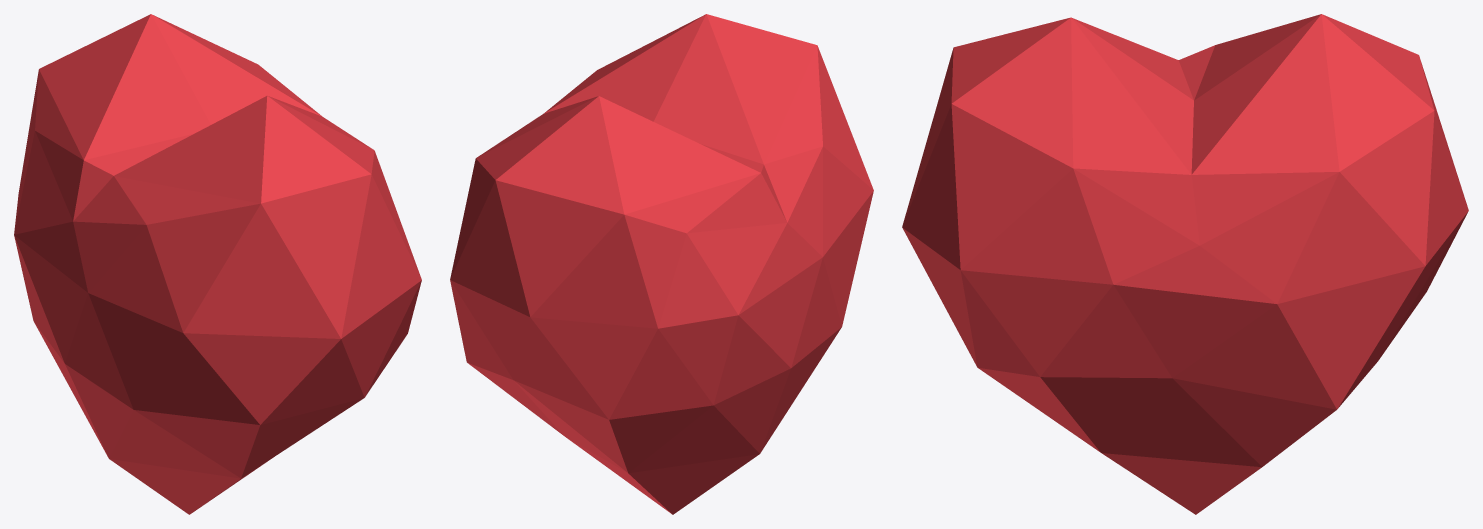
File: Heart.fbx
The picture shows the model from 3 angles, left to right: view 1: azimuth 30°, elevation 25°; view 2: azimuth 150°, elevation 25°; view 3: azimuth 270°, elevation 25°; orthographic projection. The views are drawn at different scales.
Visible parts, largest first — view 1: Icosphere; view 2: Icosphere; view 3: Icosphere.
Part boxes in pixels (x1,y1,x2,y2): Icosphere: [14, 14, 421, 514]; Icosphere: [450, 14, 873, 514]; Icosphere: [902, 14, 1468, 514].
Bounding box in the file's own units: 134 × 201 × 202.
